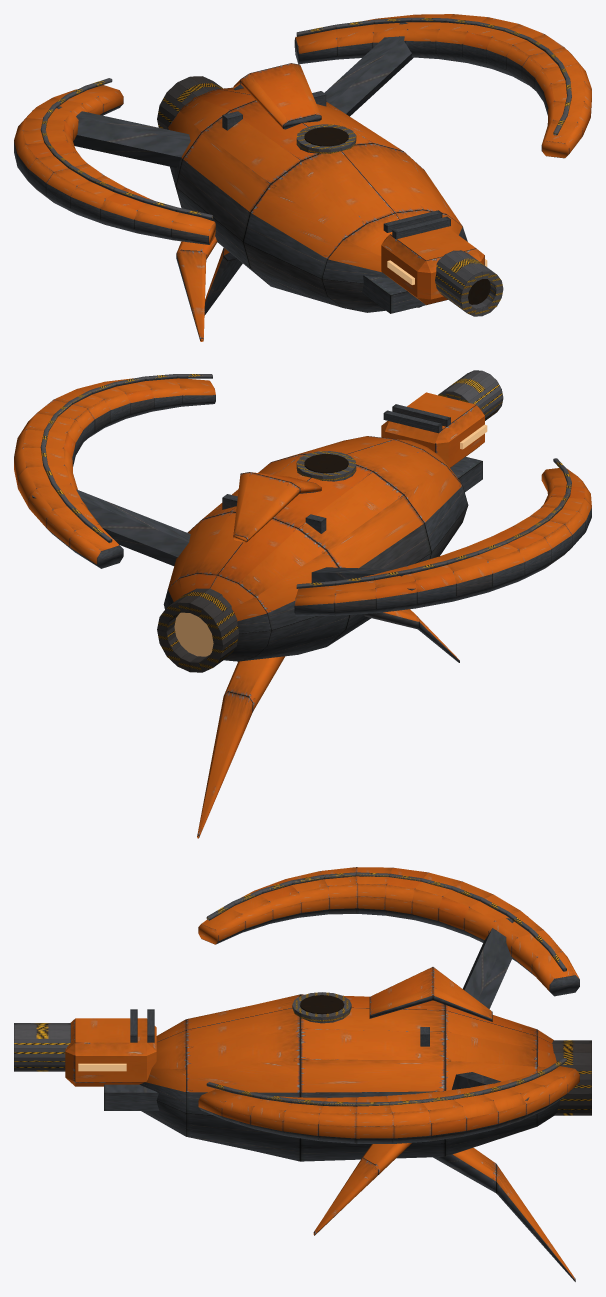
The model's file is pioneer-saturn-l07-laser.glb.
3 views of the same model, one above another, from view 1: azimuth 30°, elevation 25°; view 2: azimuth 150°, elevation 25°; view 3: azimuth 270°, elevation 25° (orthographic).
Parts seen in each view (by area): view 1: Drone; view 2: Drone; view 3: Drone.
Boxes of the visible parts, x1,y1,x2,y2 form: Drone: [14, 14, 591, 341]; Drone: [14, 370, 591, 838]; Drone: [14, 867, 591, 1281].
Size of the model in its own units: 1.51 by 0.8489 by 1.46.
Materials: 3 (3 with a texture image).
